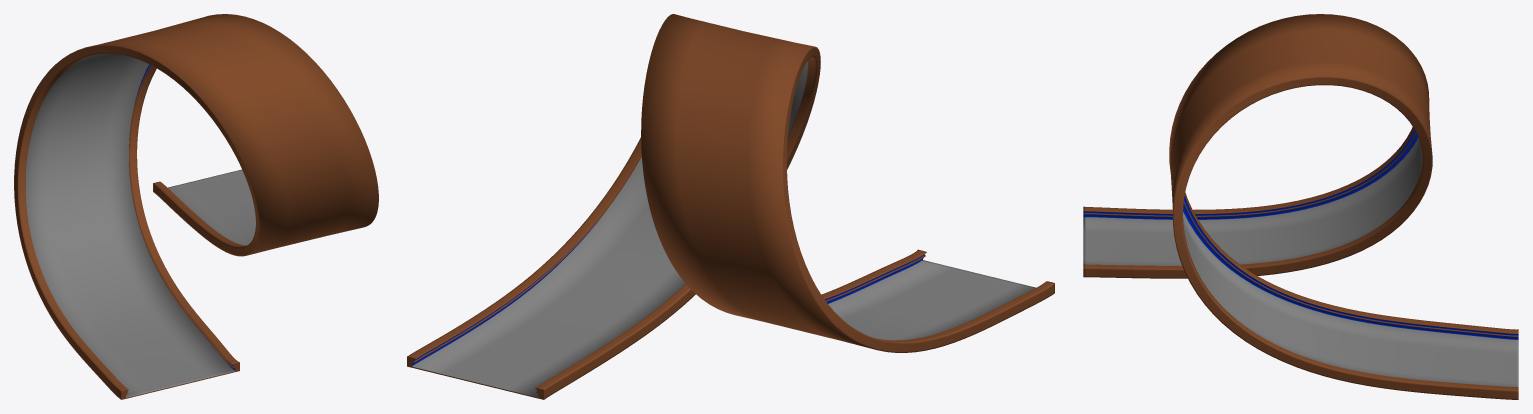
File: Looping.fbx
The picture shows the model from 3 angles, left to right: view 1: azimuth 30°, elevation 25°; view 2: azimuth 150°, elevation 25°; view 3: azimuth 270°, elevation 25°; orthographic projection. The views are drawn at different scales.
Visible parts, largest first — view 1: Looping; view 2: Looping; view 3: Looping.
Part boxes in pixels (x1=…): Looping: x1=14, y1=14, x2=378, y2=399; Looping: x1=407, y1=14, x2=1054, y2=399; Looping: x1=1083, y1=14, x2=1518, y2=399.
Size of the model in its own units: 42 by 27.8 by 42.
